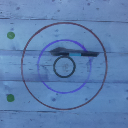Axe Tip: (49, 50, 63, 52)
